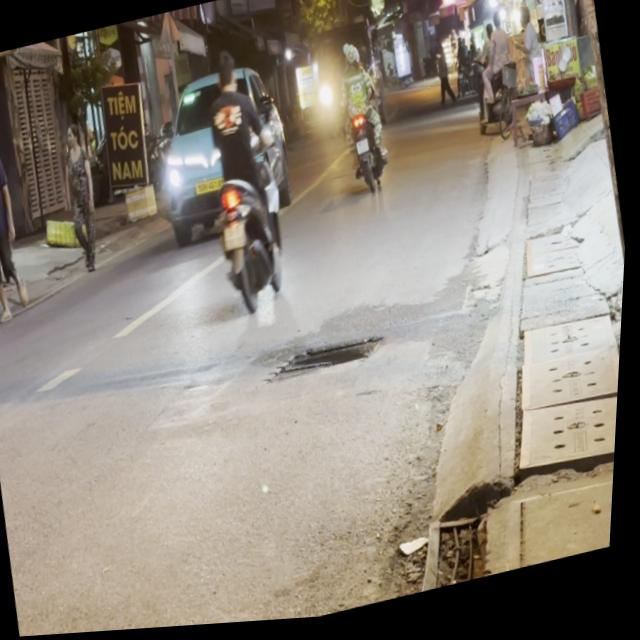helmet: (339, 42, 360, 72)
licenseplate: (182, 39, 304, 321), (325, 37, 400, 203)
motorcyclist: (210, 49, 239, 95)
nohelmet: (221, 222, 248, 252), (355, 142, 370, 159)
